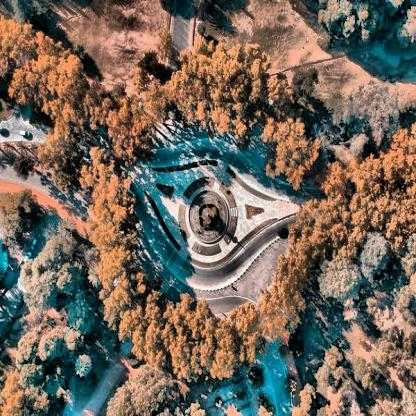tree-top: (175, 39, 265, 146), (347, 137, 416, 237), (13, 236, 87, 319), (12, 38, 86, 119), (102, 271, 165, 366), (162, 290, 212, 388), (284, 197, 345, 274), (260, 116, 326, 186), (14, 316, 77, 387), (332, 82, 394, 154), (82, 212, 137, 283), (82, 154, 133, 226), (316, 0, 377, 57), (106, 98, 158, 160), (254, 281, 300, 349), (38, 131, 79, 197), (0, 189, 37, 258), (210, 315, 244, 384), (126, 363, 168, 416), (320, 258, 358, 314), (79, 79, 120, 127), (0, 382, 55, 416), (358, 230, 389, 284), (0, 14, 37, 58), (144, 78, 173, 124), (325, 161, 356, 201), (269, 72, 295, 110), (232, 302, 258, 339), (376, 332, 402, 369), (295, 66, 320, 100), (106, 386, 130, 416), (322, 392, 347, 416), (320, 349, 344, 373), (300, 382, 316, 416), (140, 51, 160, 78), (350, 353, 369, 381), (74, 350, 93, 378), (15, 152, 34, 177), (403, 332, 416, 362), (159, 29, 173, 55), (188, 398, 206, 416)
